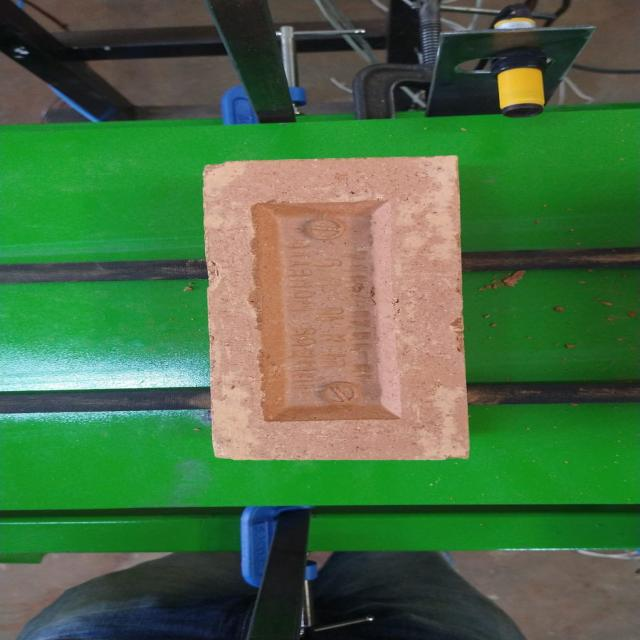bricks: (199, 157, 472, 461)
